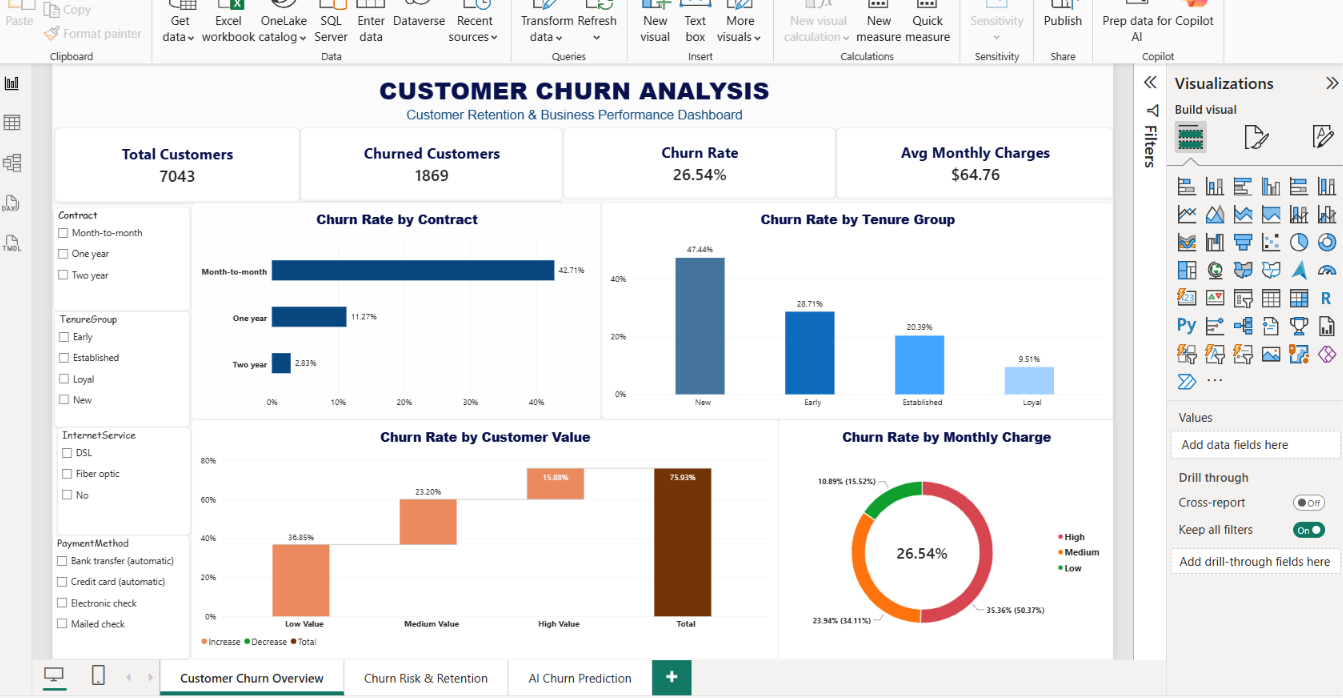

The dashboard page shown, as its layout file describes it:
{"tool":"powerbi","page":{"name":"Customer Churn Overview","canvas":[1920,1080],"ordinal":0},"visuals":[{"type":"cardVisual","fields":{"Data":["Sheet1.Total Customers"]},"box":[4.1,115.3,444.6,135.8],"z":0},{"type":"cardVisual","fields":{"Data":["Sheet1.Churned Customers"]},"box":[448.7,115.3,475.5,133.8],"z":1000},{"type":"cardVisual","fields":{"Data":["Sheet1.Churn Rate"]},"box":[924.2,115.3,494,129.7],"z":2000},{"type":"cardVisual","fields":{"Data":["Sheet1.Avg Monthly Charges"]},"box":[1418.2,115.3,502.2,129.7],"z":3000},{"type":"barChart","title":"Churn Rate by Contract","fields":{"Category":["Sheet1.Contract"],"Y":["Sheet1.Churn Rate"]},"box":[251.1,251.1,743.1,393.1],"z":4000},{"type":"clusteredColumnChart","title":"Churn Rate by Tenure Group","fields":{"Category":["Sheet1.TenureGroup"],"Y":["Sheet1.Churn Rate"]},"box":[994.2,251.1,926.2,393.1],"z":5000},{"type":"waterfallChart","title":"Churn Rate by Customer Value","fields":{"Category":["Sheet1.CustomerValueGroup"],"Y":["Sheet1.Churn Rate"]},"box":[251.1,644.3,1062.1,434.3],"z":6000},{"type":"donutChart","title":"Churn Rate by Monthly Charge","fields":{"Category":["Sheet1.MonthlyChargeGroup"],"Y":["Sheet1.Churn Rate"]},"box":[1313.2,644.3,607.2,434.3],"z":7000},{"type":"slicer","fields":{"Values":["Sheet1.Contract"]},"box":[2.1,261.4,247,187.3],"z":8000},{"type":"slicer","fields":{"Values":["Sheet1.TenureGroup"]},"box":[4.1,448.7,244.9,209.9],"z":9000},{"type":"slicer","fields":{"Values":["Sheet1.InternetService"]},"box":[8.2,658.7,240.8,195.5],"z":10000},{"type":"slicer","fields":{"Values":["Sheet1.PaymentMethod"]},"box":[0,854.2,249.1,224.4],"z":11000},{"type":"textbox","title":"Total ","box":[100.9,115.3,298.5,129.7],"z":12000},{"type":"textbox","box":[100.9,0,1389.4,57.6],"z":13000},{"type":"textbox","box":[0,0,1889.5,115.3],"z":14000}]}

Visuals, with their boxes on the page's 1920x1080 design canvas (x1, y1, x2, y2). These are canvas units, not pixel positions in the 1343x698 screenshot, which may show the page scaled, cropped or inside an application window:
cardVisual - Sheet1.Total Customers: BBox(4, 115, 449, 251)
cardVisual - Sheet1.Churned Customers: BBox(449, 115, 924, 249)
cardVisual - Sheet1.Churn Rate: BBox(924, 115, 1418, 245)
cardVisual - Sheet1.Avg Monthly Charges: BBox(1418, 115, 1920, 245)
"Churn Rate by Contract" barChart: BBox(251, 251, 994, 644)
"Churn Rate by Tenure Group" clusteredColumnChart: BBox(994, 251, 1920, 644)
"Churn Rate by Customer Value" waterfallChart: BBox(251, 644, 1313, 1079)
"Churn Rate by Monthly Charge" donutChart: BBox(1313, 644, 1920, 1079)
slicer - Sheet1.Contract: BBox(2, 261, 249, 449)
slicer - Sheet1.TenureGroup: BBox(4, 449, 249, 659)
slicer - Sheet1.InternetService: BBox(8, 659, 249, 854)
slicer - Sheet1.PaymentMethod: BBox(0, 854, 249, 1079)
"Total " textbox: BBox(101, 115, 399, 245)
textbox: BBox(101, 0, 1490, 58)
textbox: BBox(0, 0, 1890, 115)
